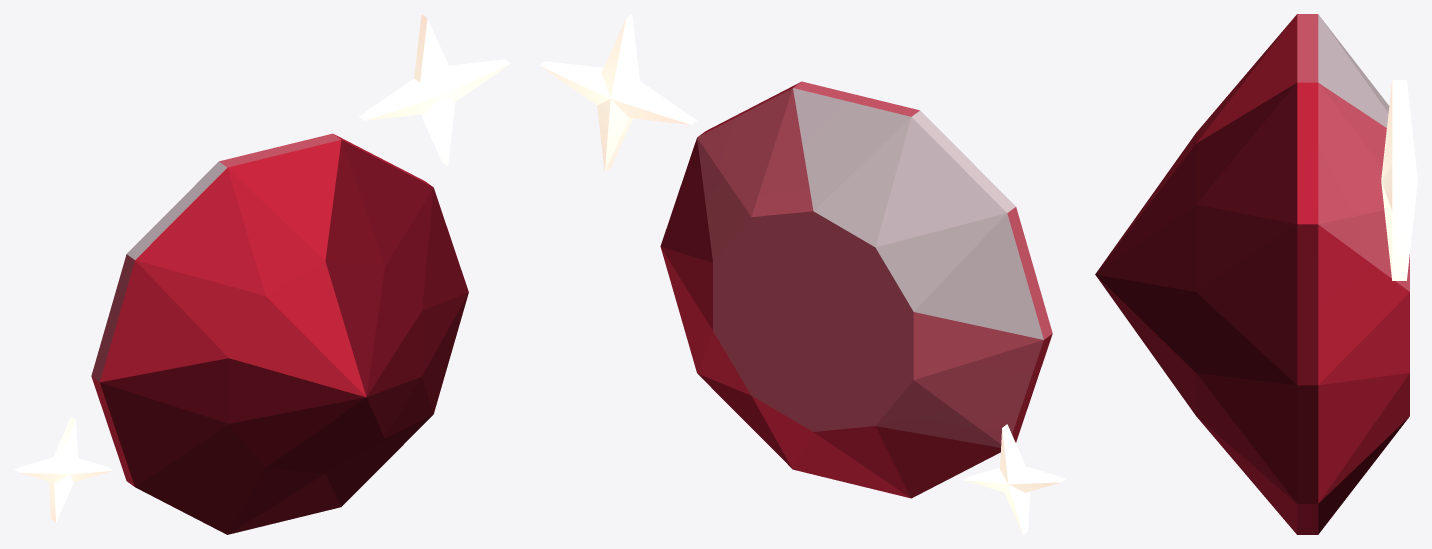
File: gem_ruby.glb
The picture shows the model from 3 angles, left to right: view 1: azimuth 30°, elevation 25°; view 2: azimuth 150°, elevation 25°; view 3: azimuth 270°, elevation 25°; orthographic projection. The views are drawn at different scales.
Bounding box in the file's own units: 0.269 × 0.2227 × 0.123.
